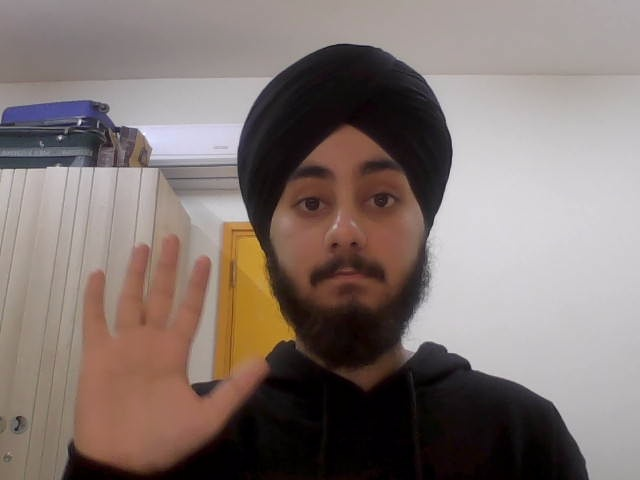Hello: (79, 231, 264, 468)
